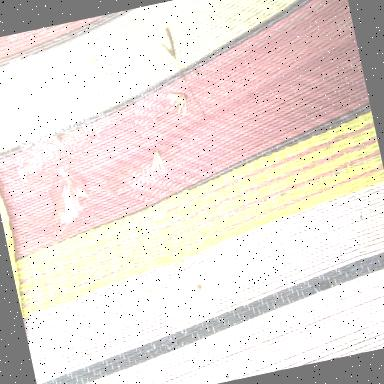pbw: (166, 90, 192, 120), (147, 148, 165, 174)
